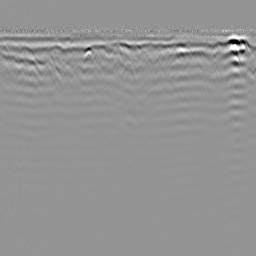cavity: (120, 57, 136, 87)
